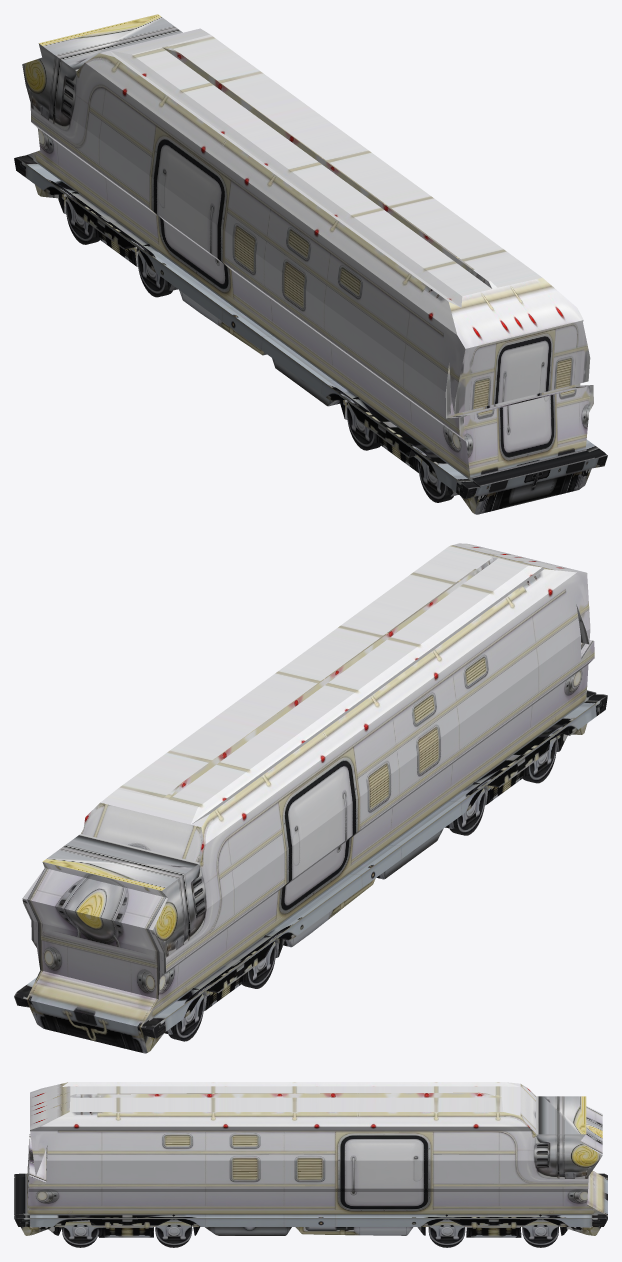
The model's file is reefer_car.glb.
3 renders of one model, top to bottom at view 1: azimuth 30°, elevation 25°; view 2: azimuth 150°, elevation 25°; view 3: azimuth 270°, elevation 25°, orthographic. The views are drawn at different scales.
Parts seen in each view (by area): view 1: reefer_car, wheel_M1L, wheel_M2L, wheel_FL, wheel_BL; view 2: reefer_car, wheel_M2L, wheel_FL, wheel_M1L, wheel_BL; view 3: reefer_car, wheel_M2R, wheel_FR, wheel_M1R, wheel_BR.
Boxes of the visible parts, bbox=[...] form: reefer_car: bbox=[14, 14, 607, 514]; wheel_M1L: bbox=[137, 244, 172, 297]; wheel_M2L: bbox=[347, 397, 380, 450]; wheel_FL: bbox=[66, 191, 99, 244]; wheel_BL: bbox=[418, 460, 453, 502]; reefer_car: bbox=[14, 543, 607, 1053]; wheel_M2L: bbox=[450, 782, 485, 835]; wheel_FL: bbox=[168, 988, 204, 1041]; wheel_M1L: bbox=[242, 935, 275, 988]; wheel_BL: bbox=[523, 737, 556, 783]; reefer_car: bbox=[14, 1082, 607, 1237]; wheel_M2R: bbox=[155, 1214, 192, 1247]; wheel_FR: bbox=[522, 1214, 558, 1247]; wheel_M1R: bbox=[428, 1214, 465, 1247]; wheel_BR: bbox=[62, 1220, 97, 1247].
Size of the model in its own units: 3.19 by 4.59 by 17.98.
3 materials, 1 textured.
